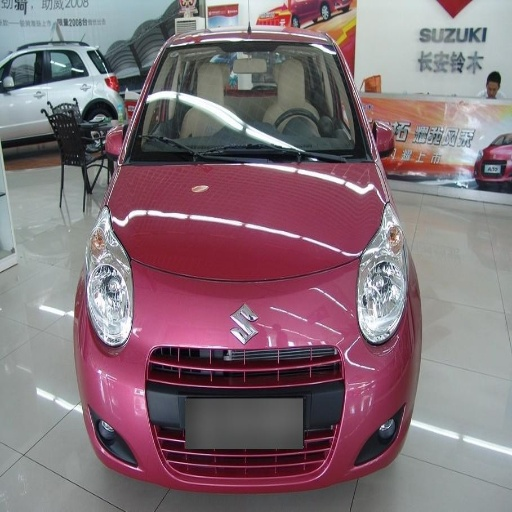front_bumper: (77, 258, 415, 493)
front_glass: (121, 43, 371, 164)
front_left_door: (3, 49, 48, 126)
front_right_light: (83, 226, 133, 347)
hood: (109, 160, 386, 281)
